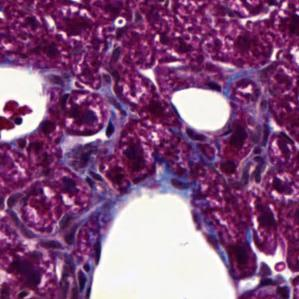inflammation: (264, 123, 299, 168), (88, 35, 124, 66)
